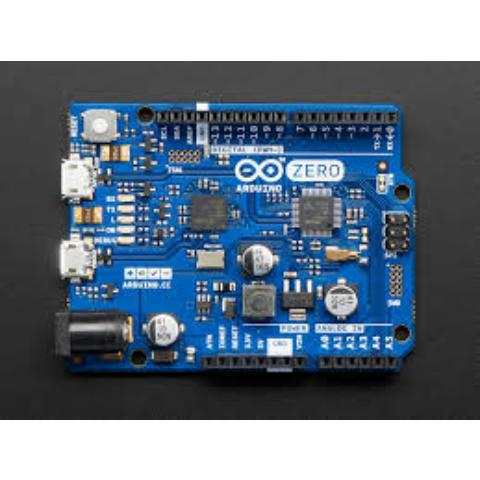Arduino-Zero: (41, 80, 444, 400)
